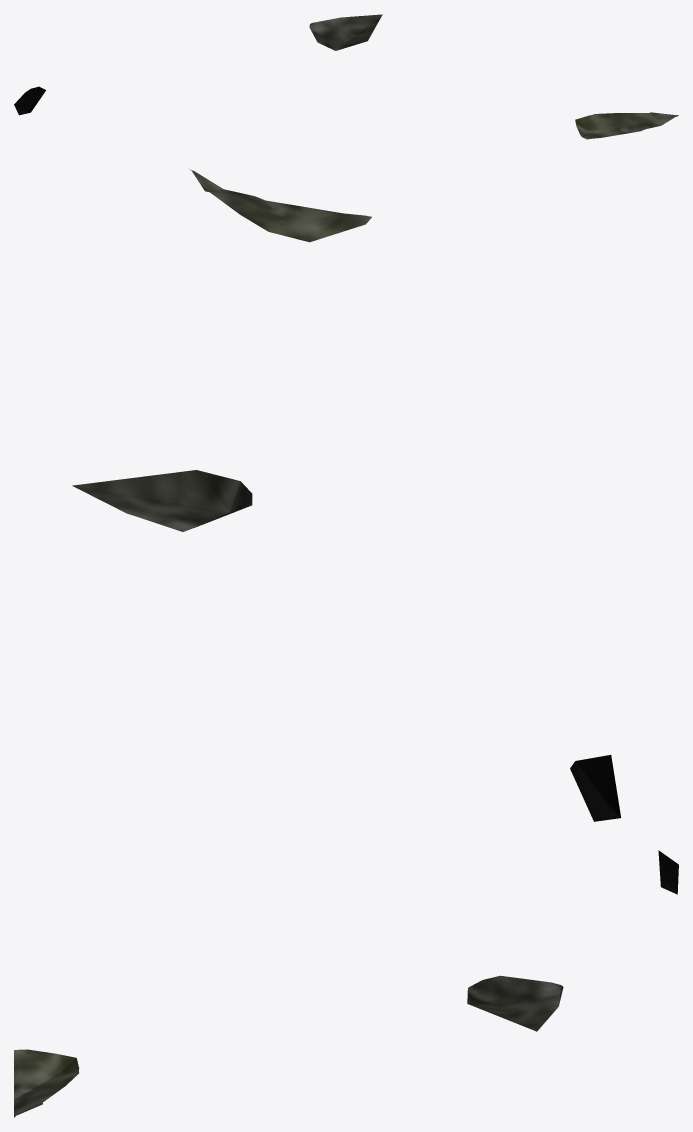
3 renders of one model, top to bottom at view 1: azimuth 30°, elevation 25°; view 2: azimuth 150°, elevation 25°; view 3: azimuth 270°, elevation 25°, orthographic. The views are drawn at different scales.
Bounding box in the file's own units: 2.23 × 0.2807 × 1.98.
1 material, 1 textured.
